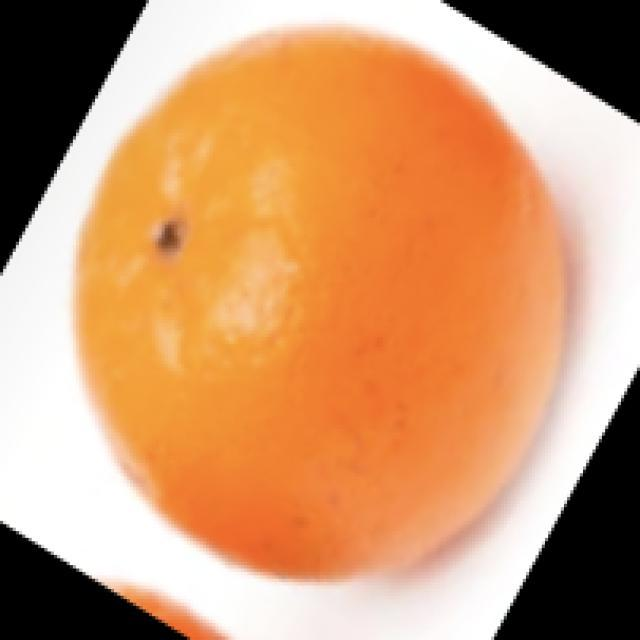Orange: (72, 22, 567, 583)
